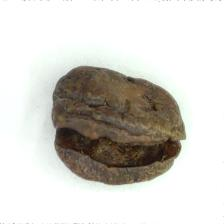NG: (50, 99, 179, 180)
